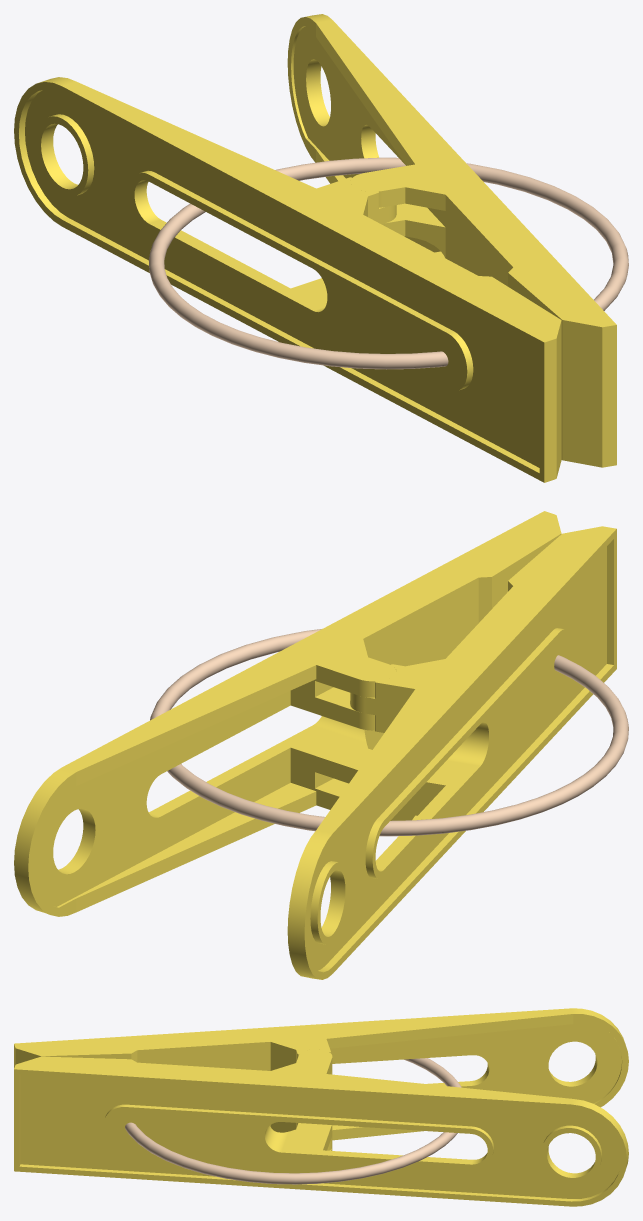
Rendered from 053_洗濯バサミ閉.glb.
The picture shows the model from 3 angles, top to bottom: view 1: azimuth 30°, elevation 25°; view 2: azimuth 150°, elevation 25°; view 3: azimuth 270°, elevation 25°; orthographic projection. The views are drawn at different scales.
Visible parts, largest first — view 1: Body; view 2: Body; view 3: Body.
Part boxes in pixels (box(x1,y1,x2,y2)): Body: box(14, 14, 628, 482); Body: box(14, 511, 628, 979); Body: box(14, 1008, 628, 1206).
Size of the model in its own units: 0.031 by 0.01 by 0.0546.
